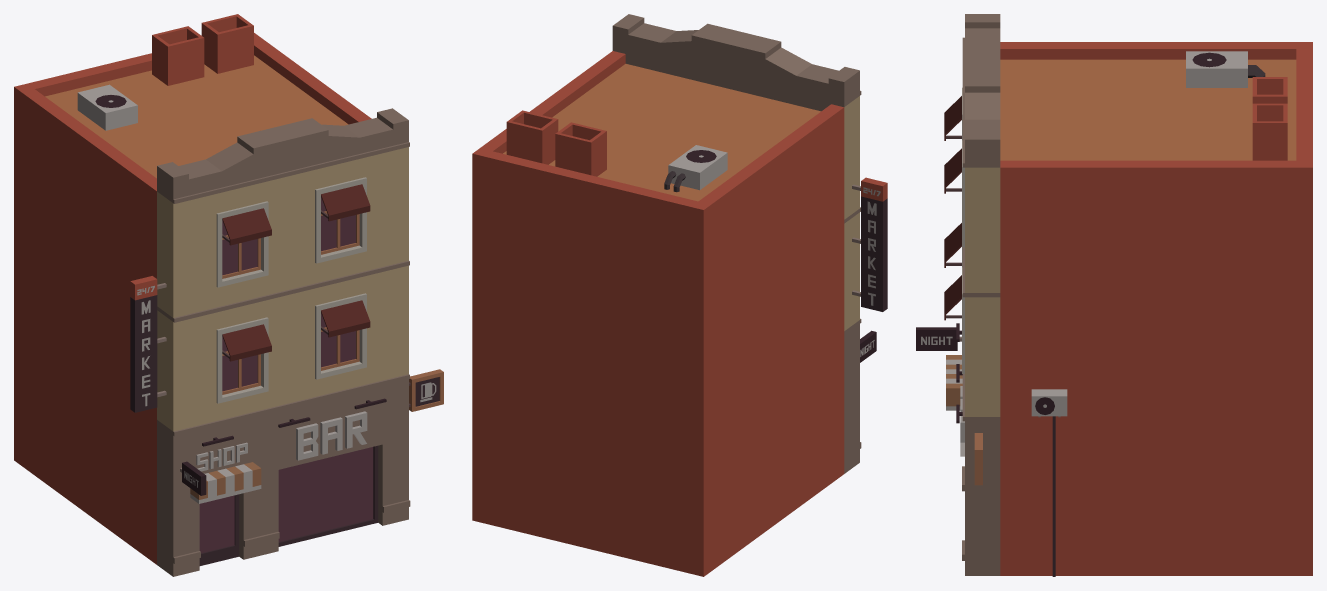
File: Building_16.fbx
The picture shows the model from 3 angles, left to right: view 1: azimuth 30°, elevation 25°; view 2: azimuth 150°, elevation 25°; view 3: azimuth 270°, elevation 25°; orthographic projection. The views are drawn at different scales.
Parts seen in each view (by area): view 1: Building_16, Building_16LP; view 2: Building_16, Building_16LP; view 3: Building_16.
Boxes of the visible parts, x1=… form: Building_16: x1=14, y1=14, x2=443, y2=576; Building_16LP: x1=137, y1=197, x2=436, y2=553; Building_16: x1=472, y1=14, x2=887, y2=576; Building_16LP: x1=860, y1=187, x2=880, y2=356; Building_16: x1=916, y1=14, x2=1312, y2=576.
Size of the model in its own units: 10.25 by 13 by 10.46.
